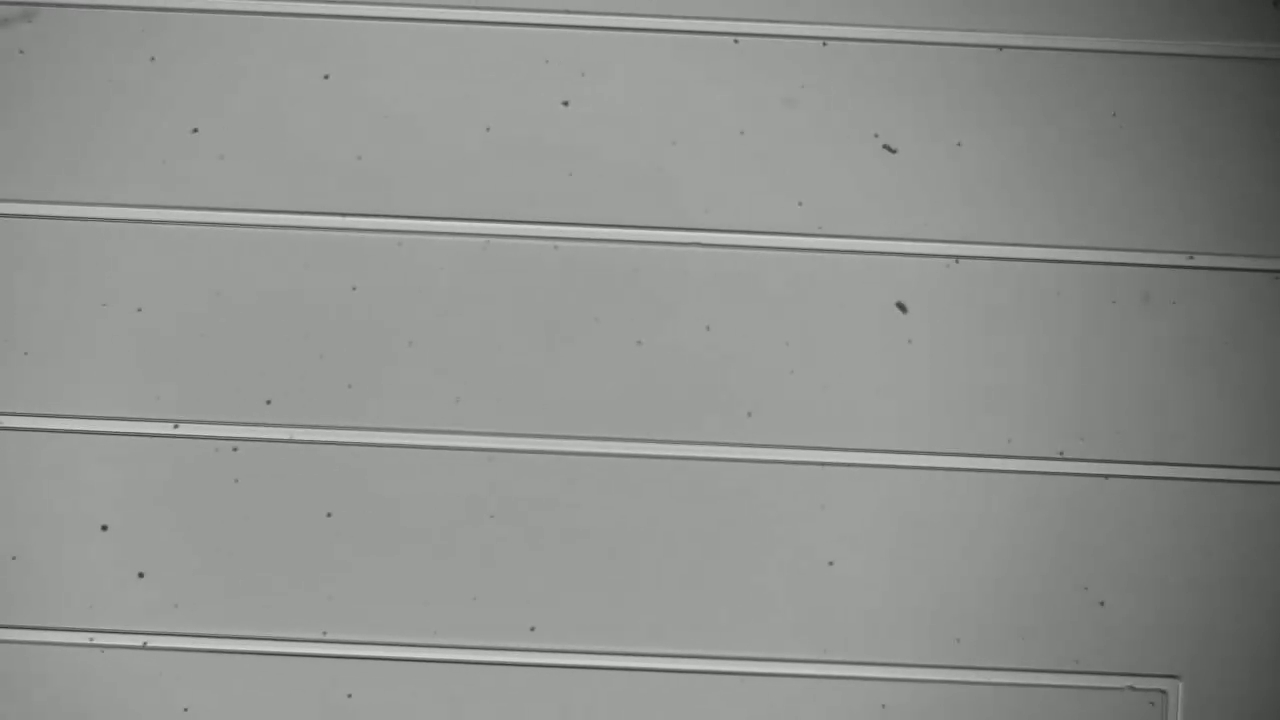edge_bite: (1115, 662, 1145, 700)
